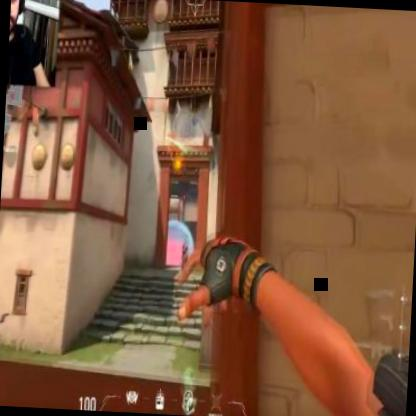enemy: (179, 239, 189, 274)
enemy_head: (182, 238, 186, 246)
